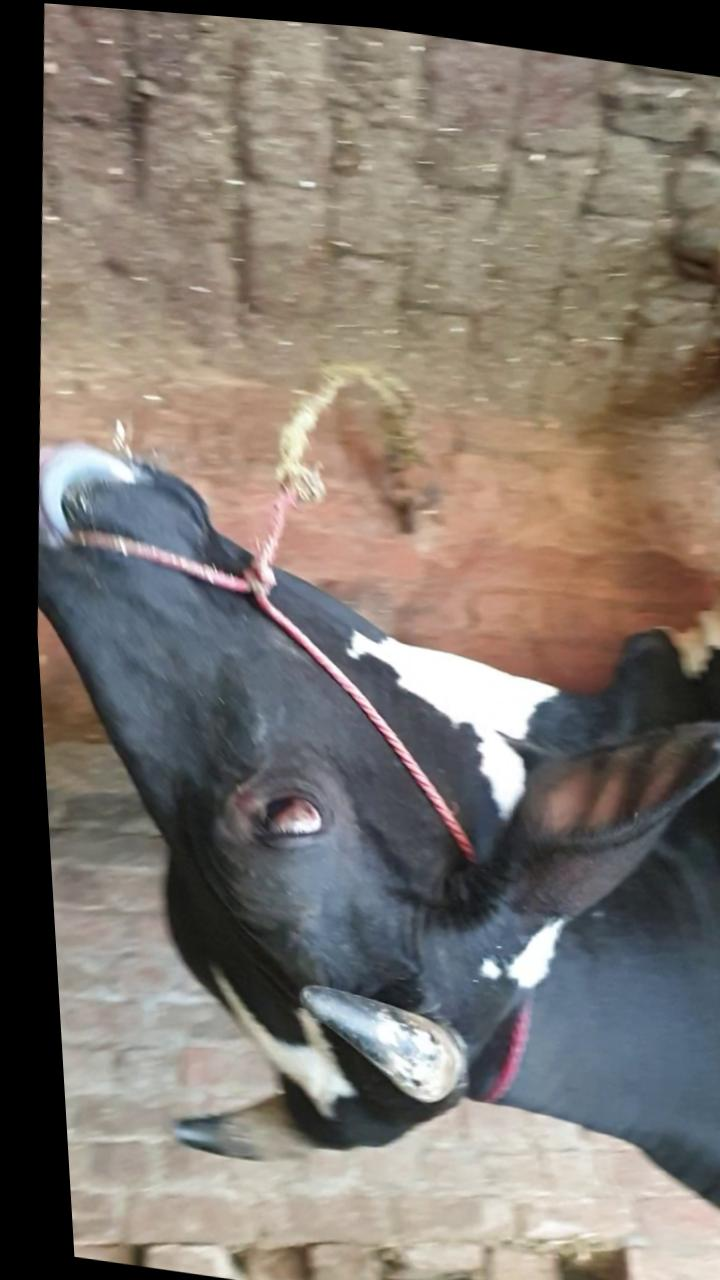cows: (20, 434, 517, 1167)
